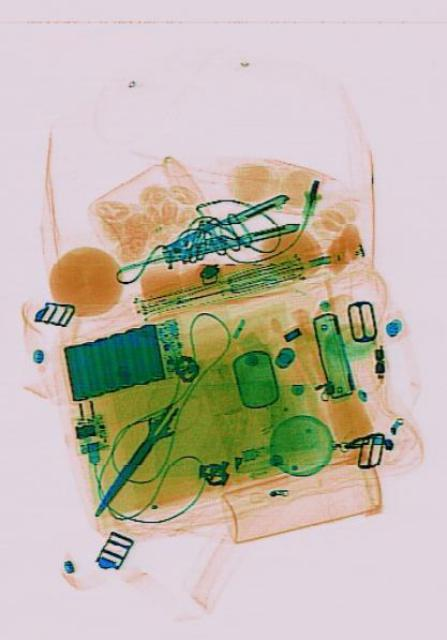Knife: (83, 392, 182, 526)
